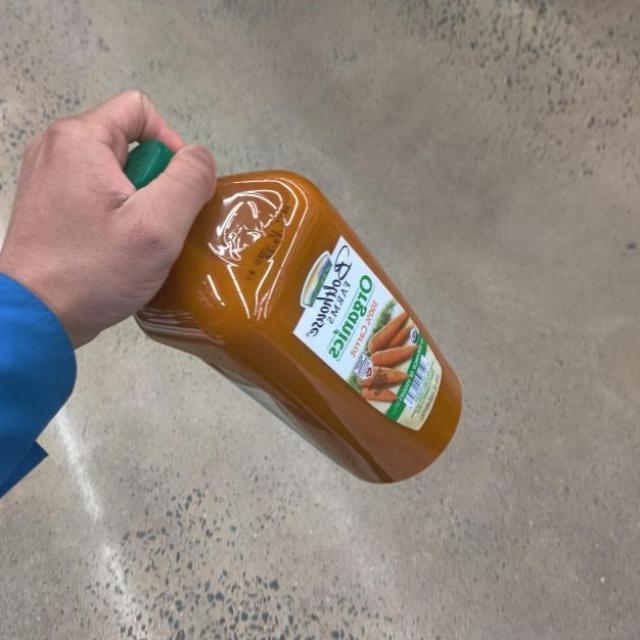Juice: (99, 120, 494, 505)
